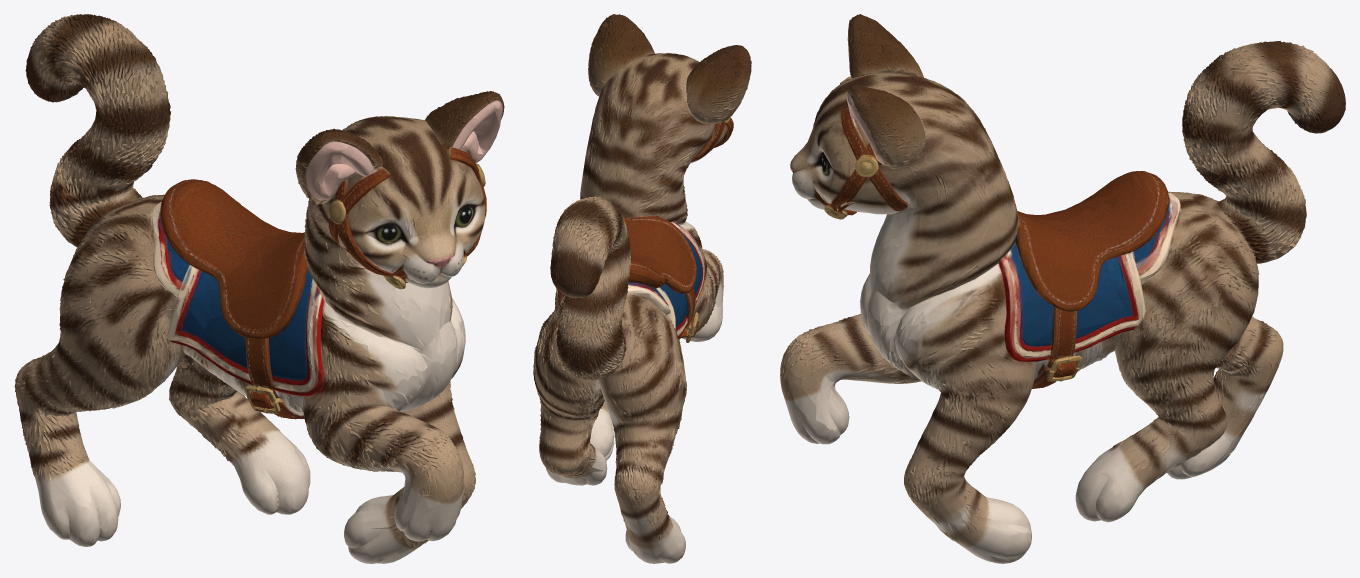
File: cat.glb
The picture shows the model from 3 angles, left to right: view 1: azimuth 30°, elevation 25°; view 2: azimuth 150°, elevation 25°; view 3: azimuth 270°, elevation 25°; orthographic projection. The views are drawn at different scales.
Size of the model in its own units: 1.05 by 1.82 by 1.9.
1 material, 1 textured.
